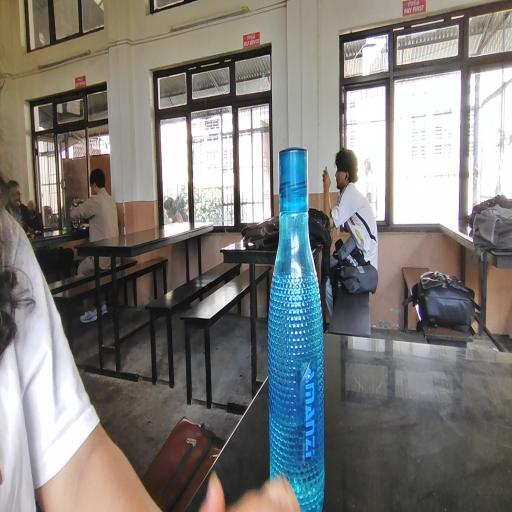Bottle: (270, 137, 348, 502)
